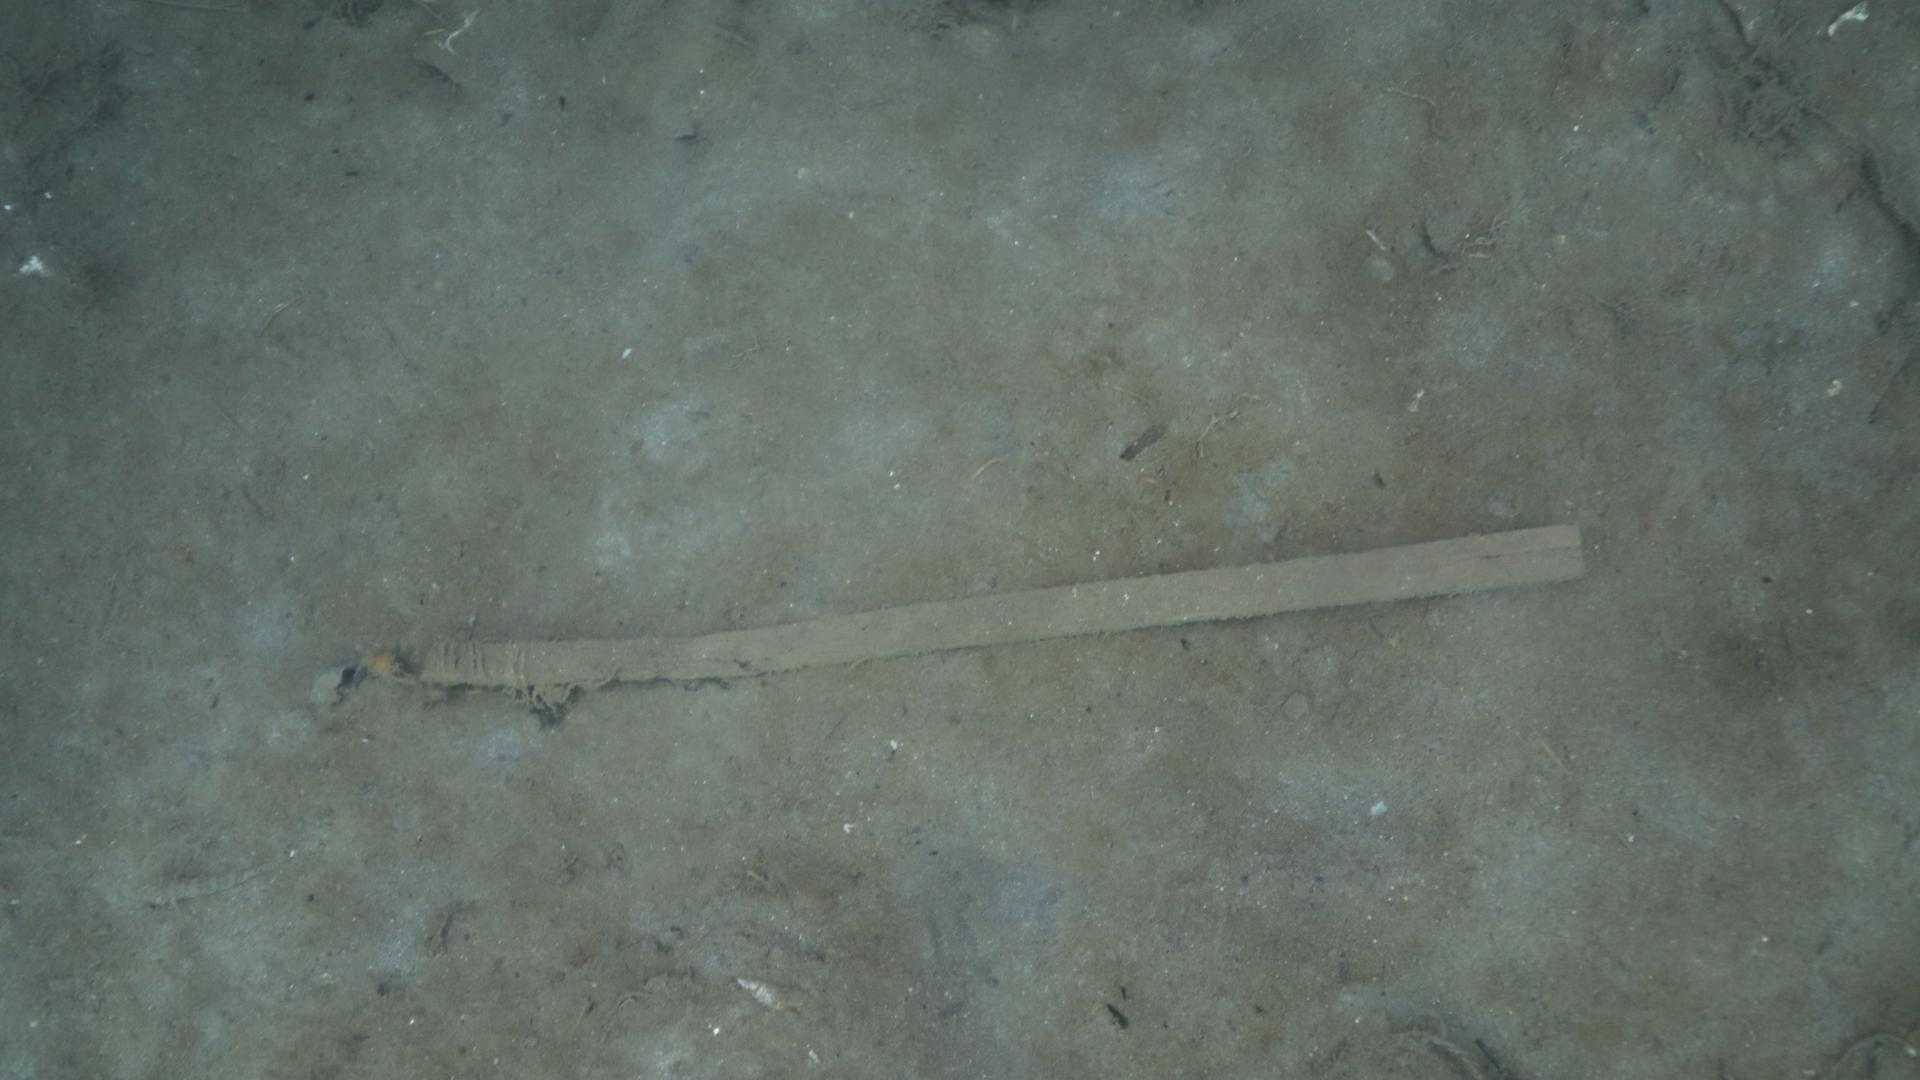wood: (415, 520, 1593, 692)
